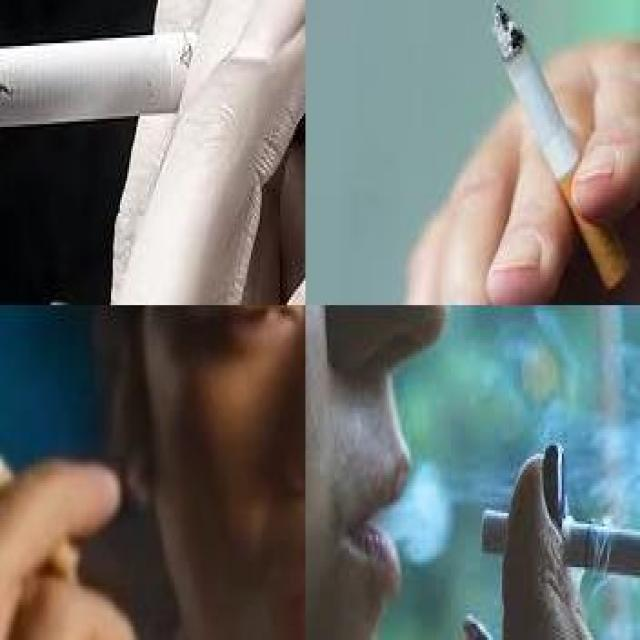rokok: (496, 4, 632, 292), (0, 25, 296, 152), (0, 346, 80, 586), (480, 506, 638, 588)
